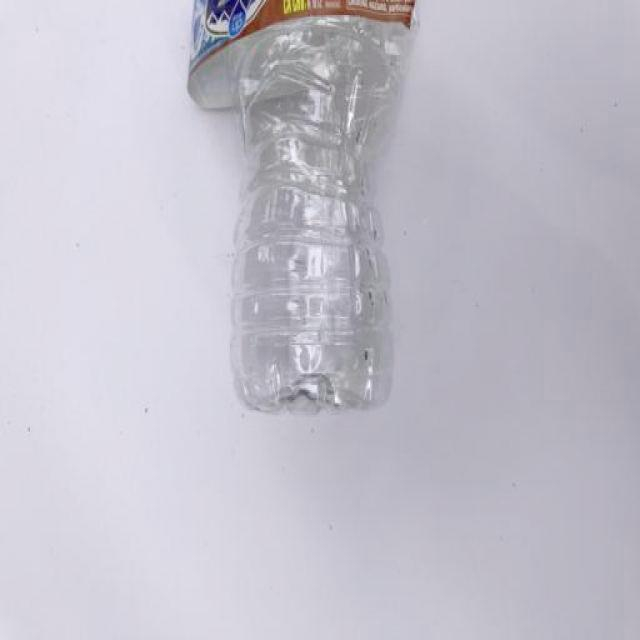bottle: (187, 0, 422, 417)
